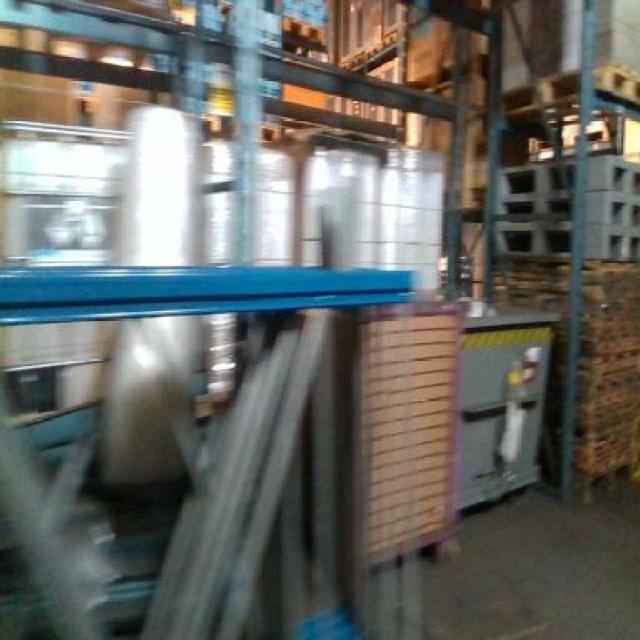pallets: (352, 303, 458, 562), (457, 312, 554, 506)
